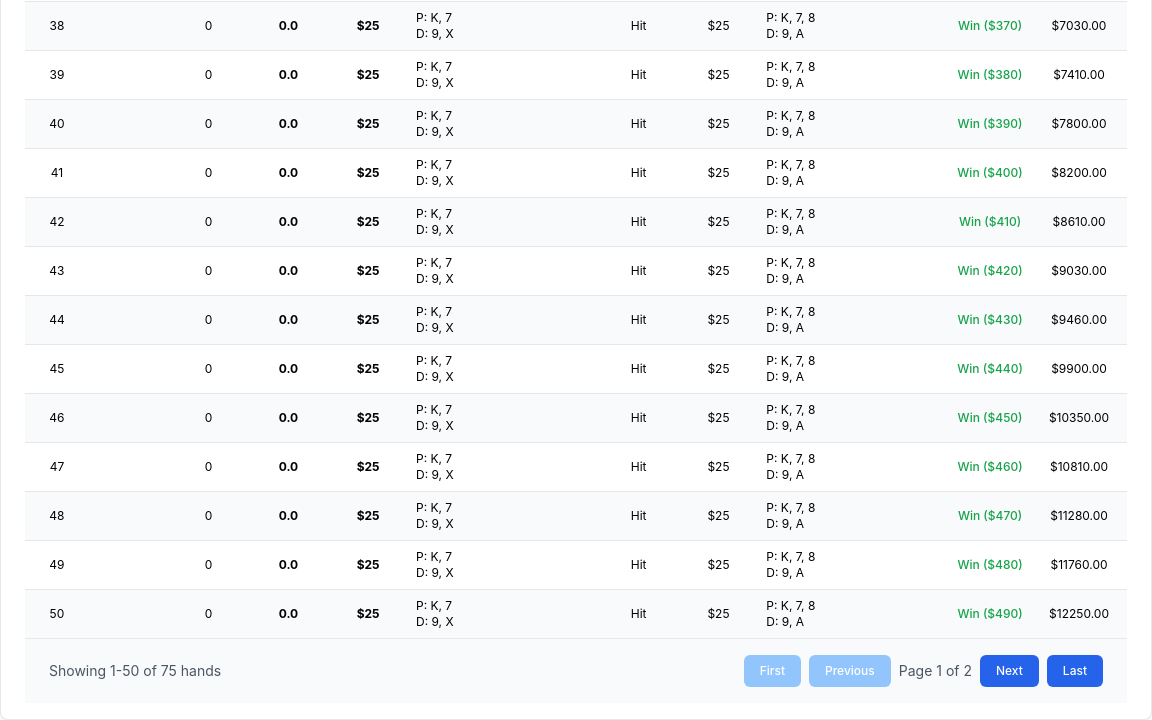
Test: HandDetailsTable › implements pagination correctly
(page scrolled)
Expected: the text "Page 1 of 2" is shown, top-left (899, 661), bottom-right (972, 681)
Expected: the button "Previous" is disabled, top-left (809, 655), bottom-right (891, 687)
// Test navigation
Click the button "Next". click: (1009, 671)
box: top-left (980, 655), bottom-right (1039, 687)
(page scrolled)
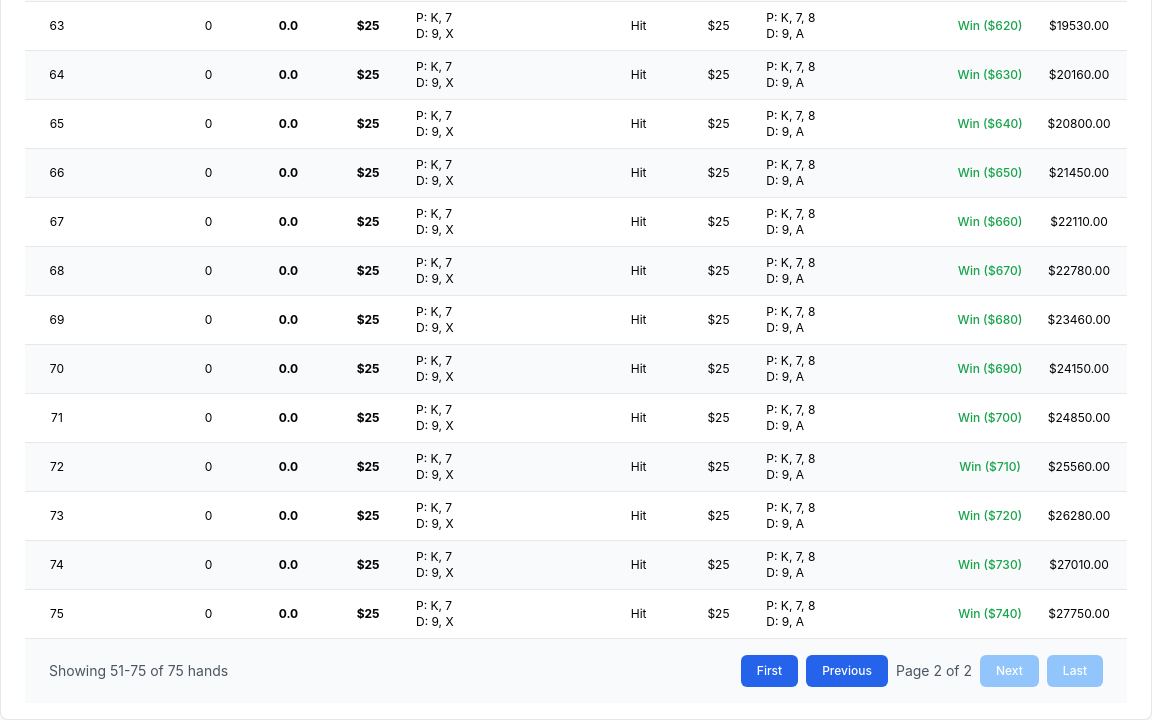
Now the text "Page 2 of 2" is shown, box top-left (896, 661), bottom-right (972, 681)
Now the button "Previous" is enabled, box top-left (806, 655), bottom-right (888, 687)
Now the button "Next" is disabled, box top-left (980, 655), bottom-right (1039, 687)
